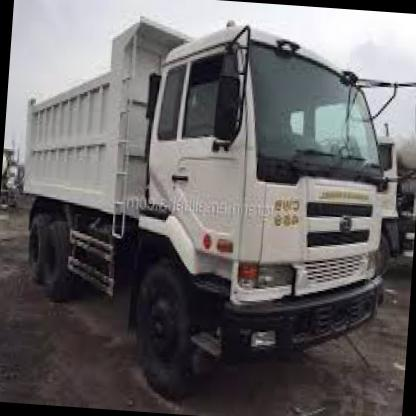truck: (127, 16, 400, 405)
